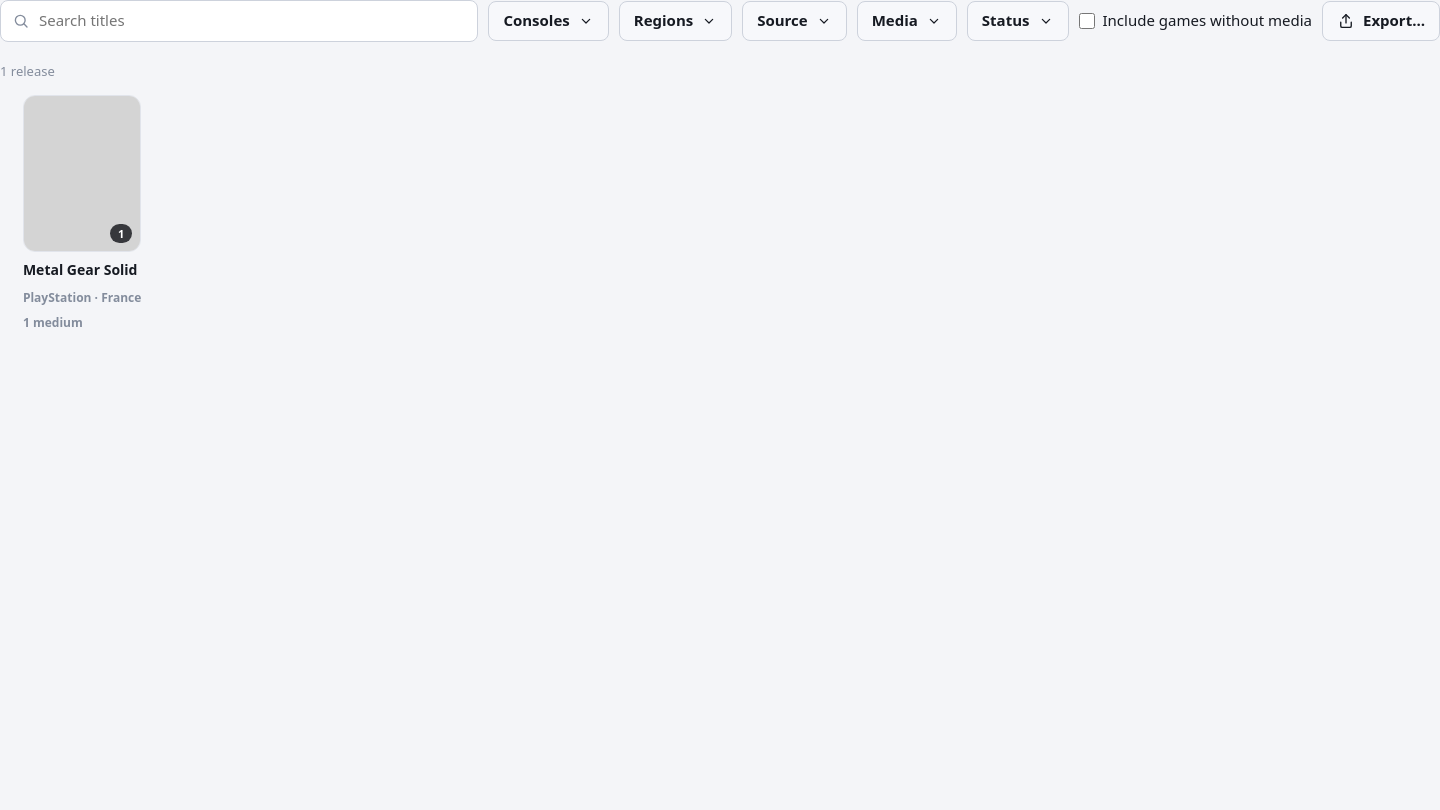
Test: LibraryView › exports the library to a folder from a dialog
The image size is (1440, 810).
Click the button "Export…" at [1381, 21], box 1322,1 -> 1439,41
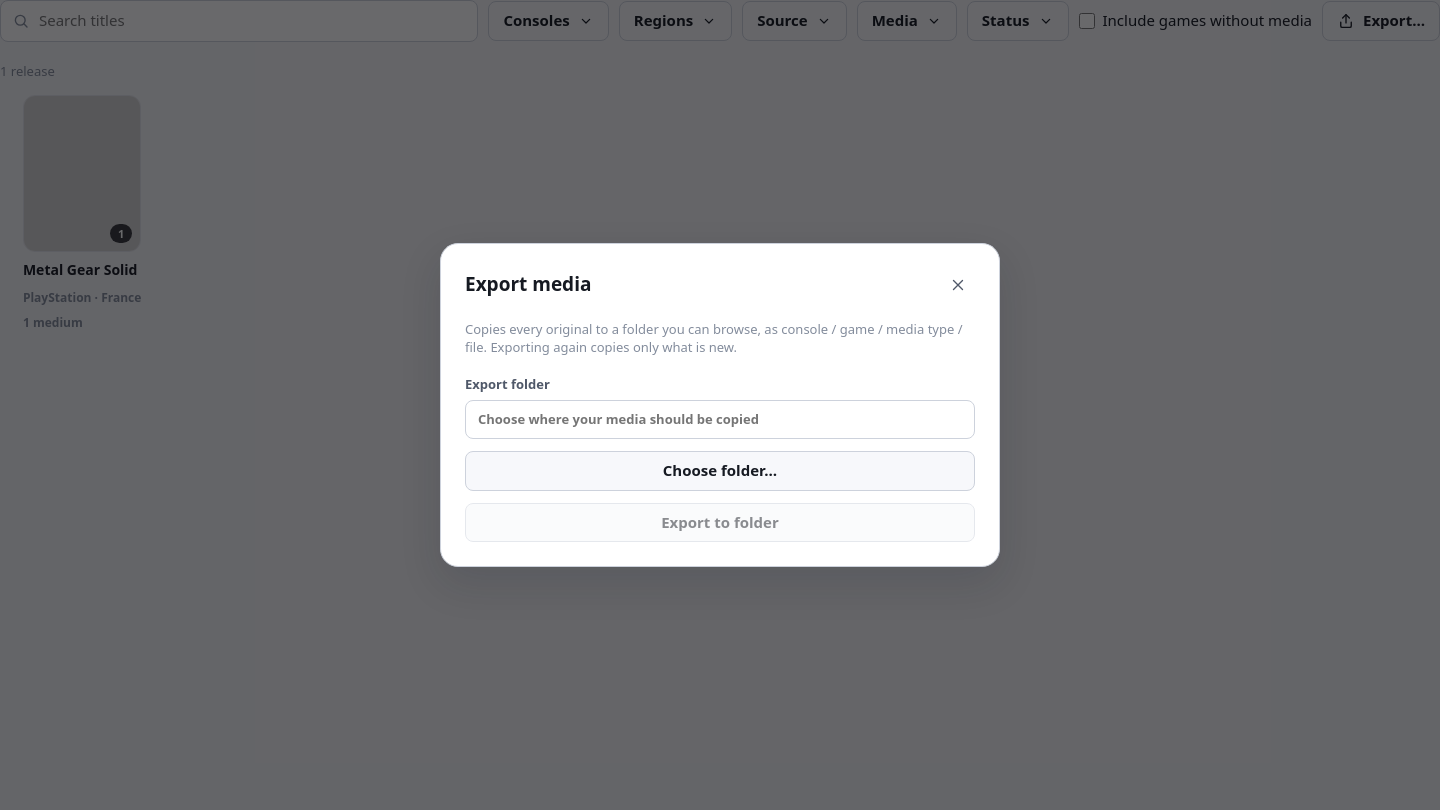
Type "D:\\Media" into the field labelled "Export folder" at [720, 420], box 465,400 -> 975,439
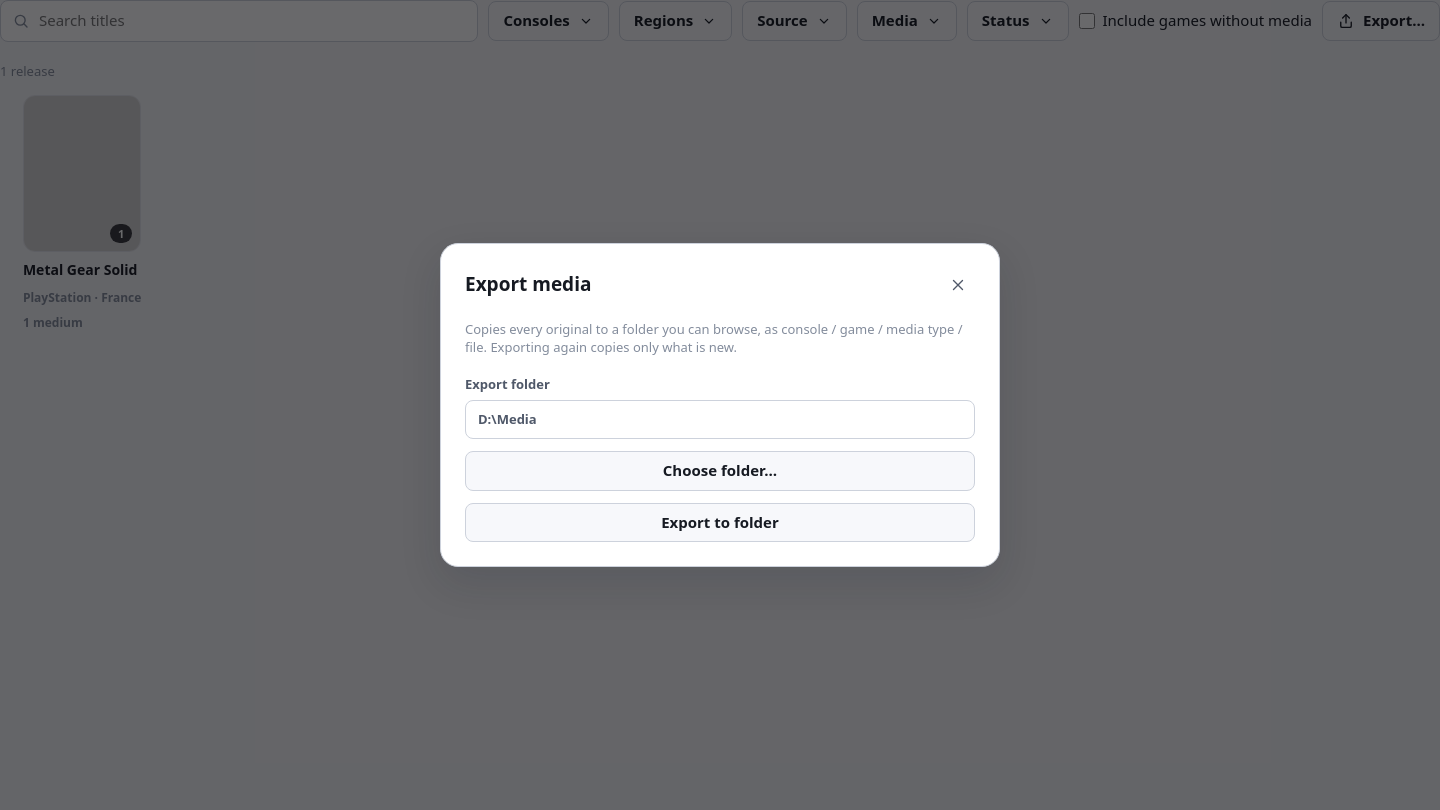
Click the button "Export to folder" at [720, 523], box 465,503 -> 975,542
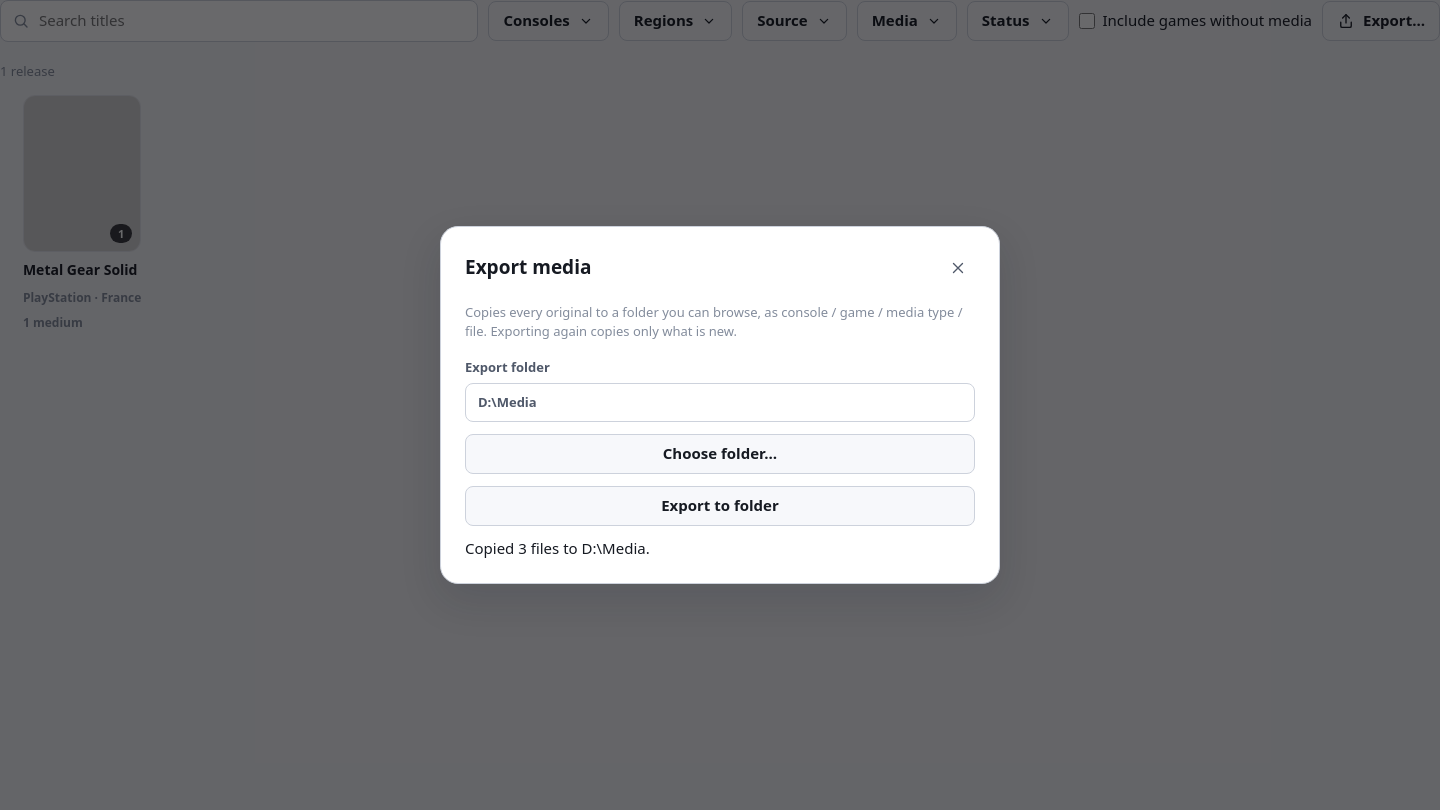
Result: the text "Copied 3 files to D:\\Media." is shown at 465,538 -> 650,558
